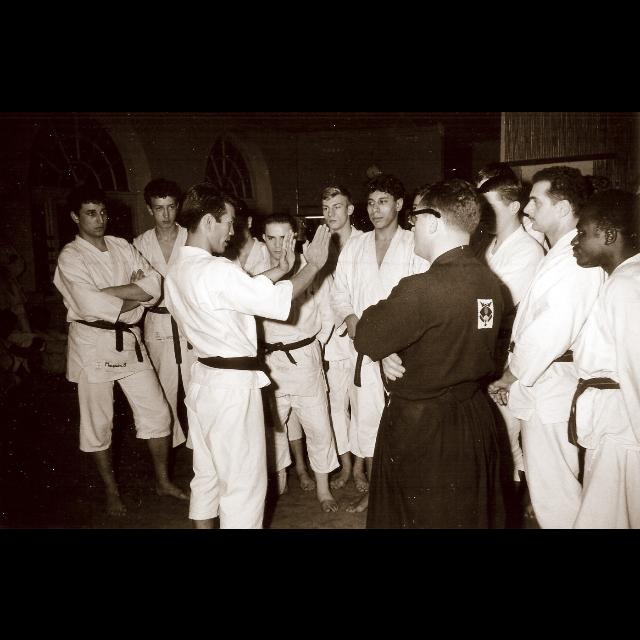head: (408, 177, 484, 257), (523, 165, 587, 233), (185, 182, 238, 256), (475, 164, 525, 233), (216, 198, 254, 252), (144, 179, 183, 229), (68, 189, 108, 237), (366, 180, 404, 230), (262, 212, 300, 260), (321, 185, 357, 231)
person: (51, 192, 197, 520), (328, 175, 440, 517), (193, 202, 317, 492), (116, 178, 222, 502), (234, 212, 344, 516), (299, 184, 386, 492)
